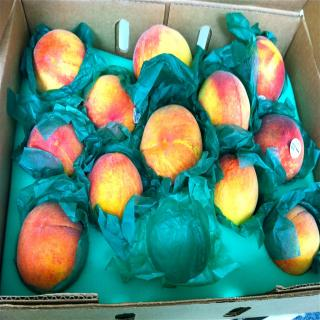Peach: (16, 204, 84, 292), (140, 104, 203, 184), (87, 151, 143, 219), (268, 203, 320, 276), (31, 28, 86, 94), (26, 120, 86, 179), (132, 22, 192, 81), (213, 153, 259, 227), (253, 114, 304, 180), (82, 75, 137, 133), (198, 70, 250, 130), (256, 36, 286, 102)
